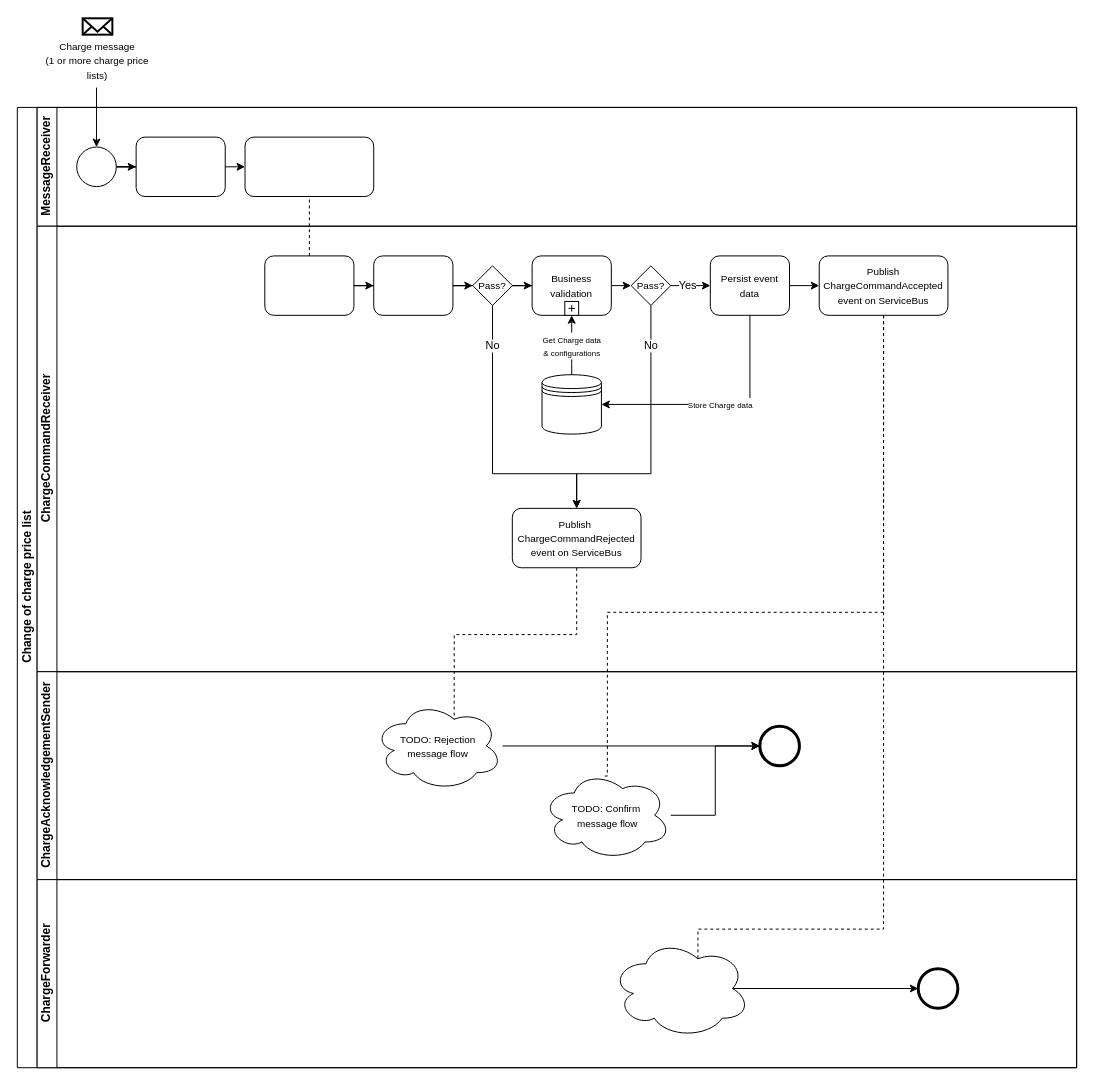
This 1094x1085 diagram has some shape labels left out. Each missing label, with the centre of its shape:
Fetch event from ServiceBus: point 309,285
Input validation: point 413,285
Publish ChargeCommandReceived event on Servicebus: point 309,166
Split received message into individual charge events: point 180,166
SQL database: point 571,404
TODO: Forward charge to market participants flow: point 680,988
